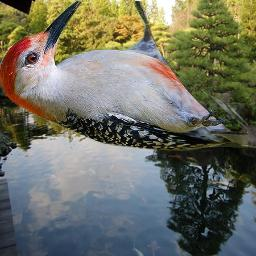Woodpecker: (0, 1, 248, 151)
